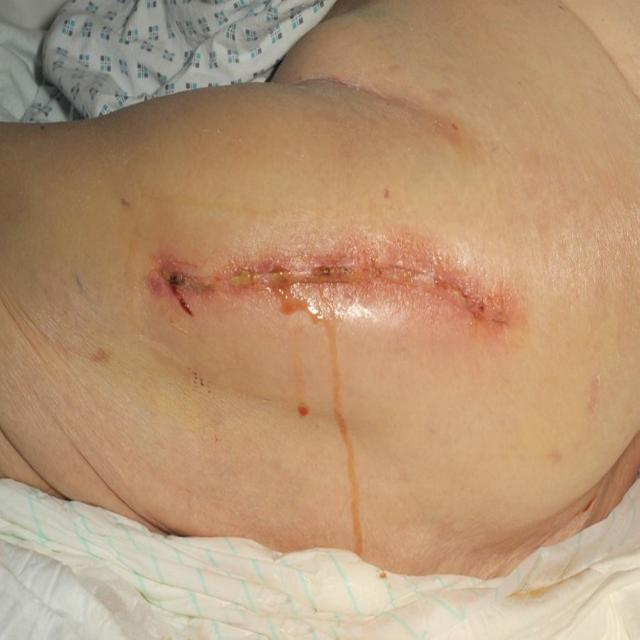wound: (148, 251, 510, 331)
